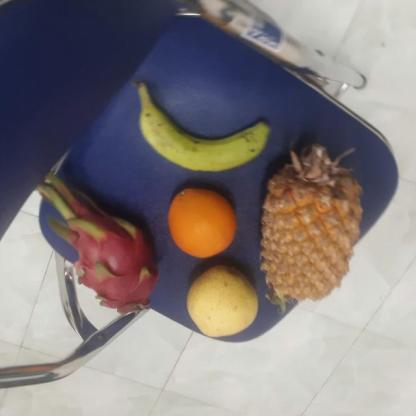banana: (134, 94, 268, 173)
orange: (166, 185, 238, 257)
pear: (183, 265, 260, 338)
pineapple: (256, 145, 362, 306)
pitaya: (72, 218, 160, 314)
